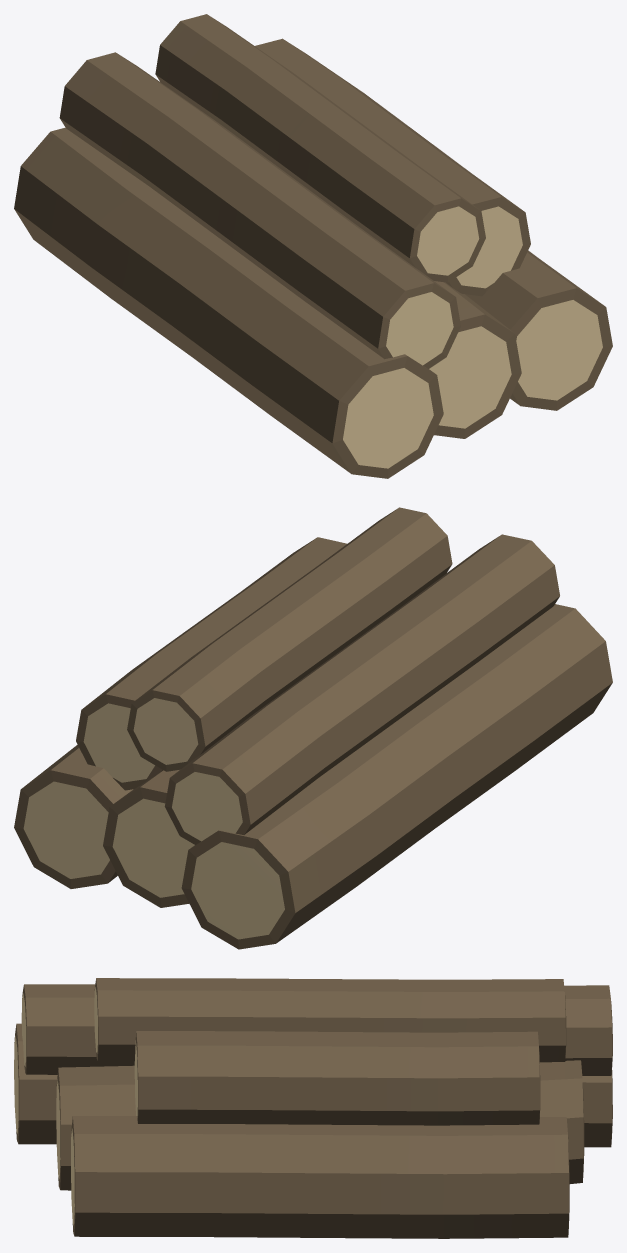
Rendered from log_group.fbx.
3 renders of one model, top to bottom at view 1: azimuth 30°, elevation 25°; view 2: azimuth 150°, elevation 25°; view 3: azimuth 270°, elevation 25°, orthographic. The views are drawn at different scales.
Visible parts, largest first — view 1: pCylinder9; view 2: pCylinder9; view 3: pCylinder9.
Part boxes in pixels (box(x1,y1,x2,y2)): pCylinder9: box(14, 14, 612, 478); pCylinder9: box(14, 507, 612, 949); pCylinder9: box(14, 978, 612, 1238).
Size of the model in its own units: 1.57 by 1.07 by 2.79.
